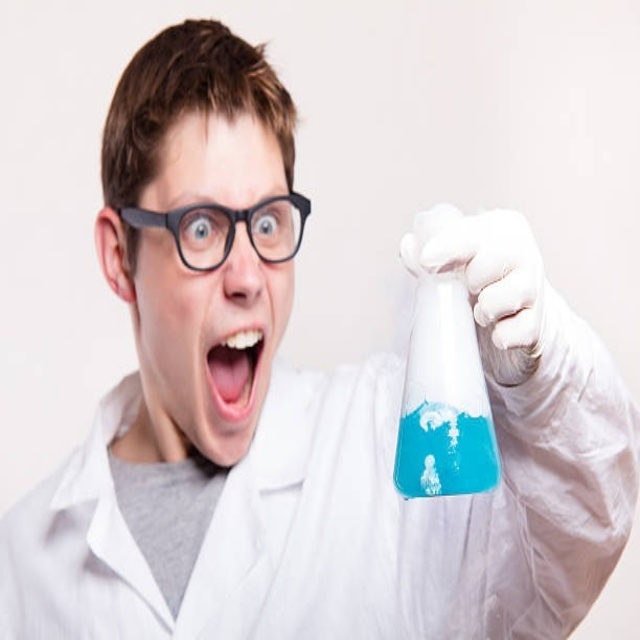Gafas: (120, 191, 312, 272)
Guantes: (401, 202, 549, 379)
Sin_mascara: (186, 317, 278, 447)
